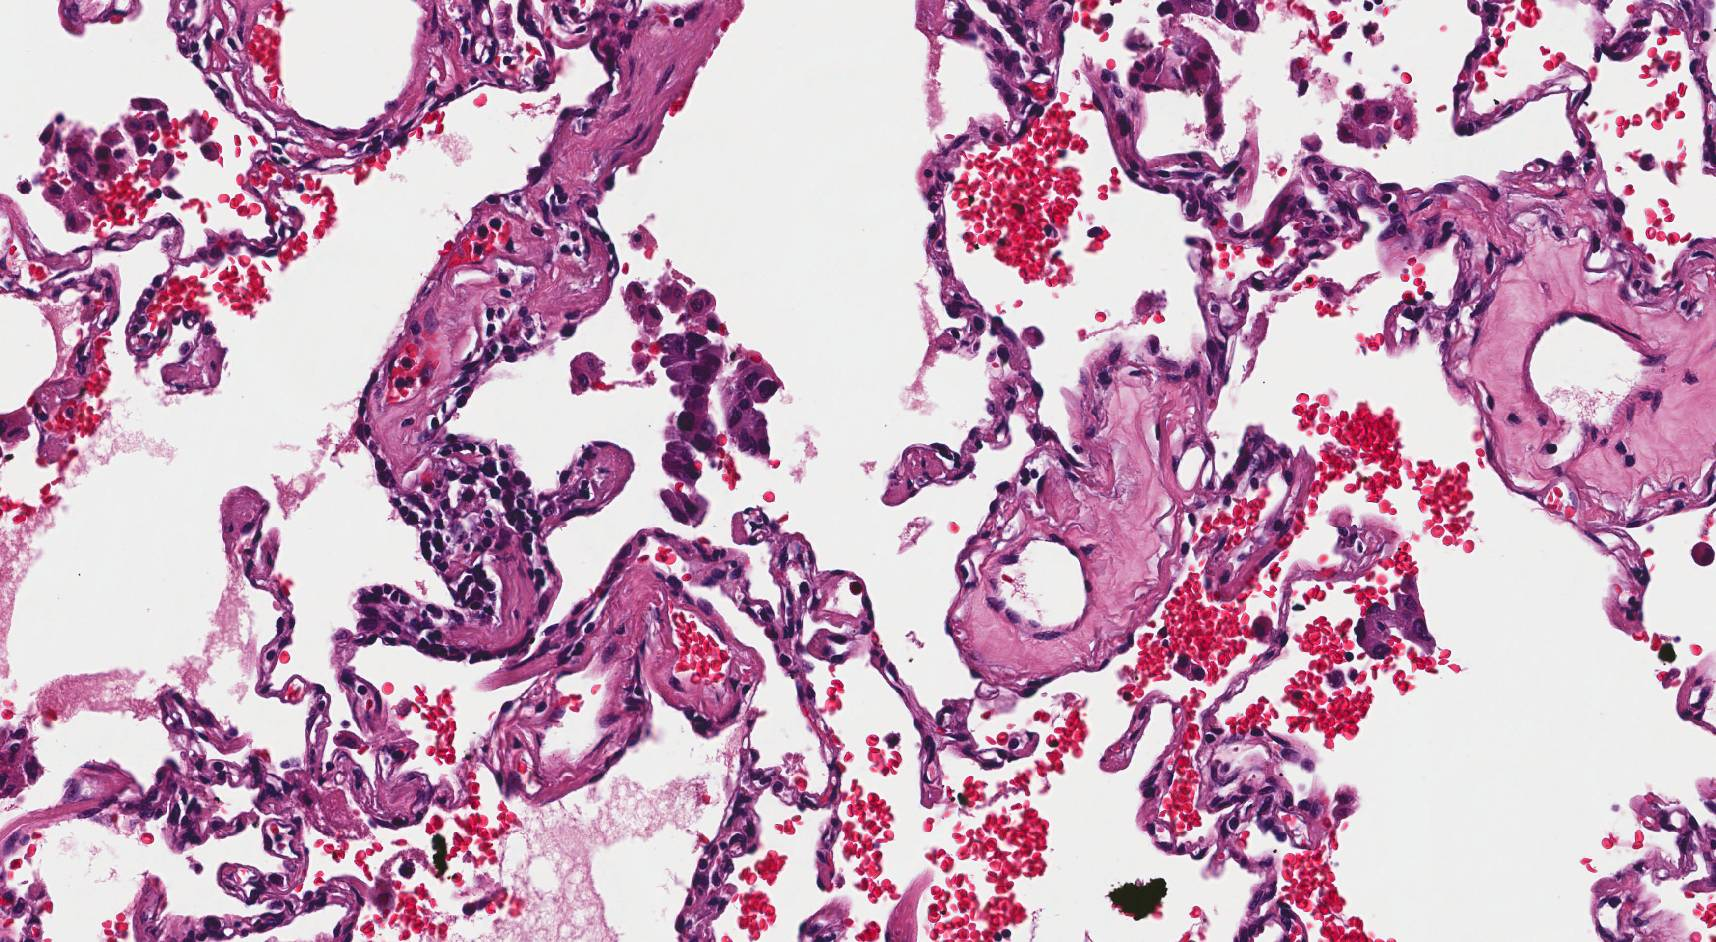stas: (651, 332, 782, 528), (1355, 576, 1439, 661)
